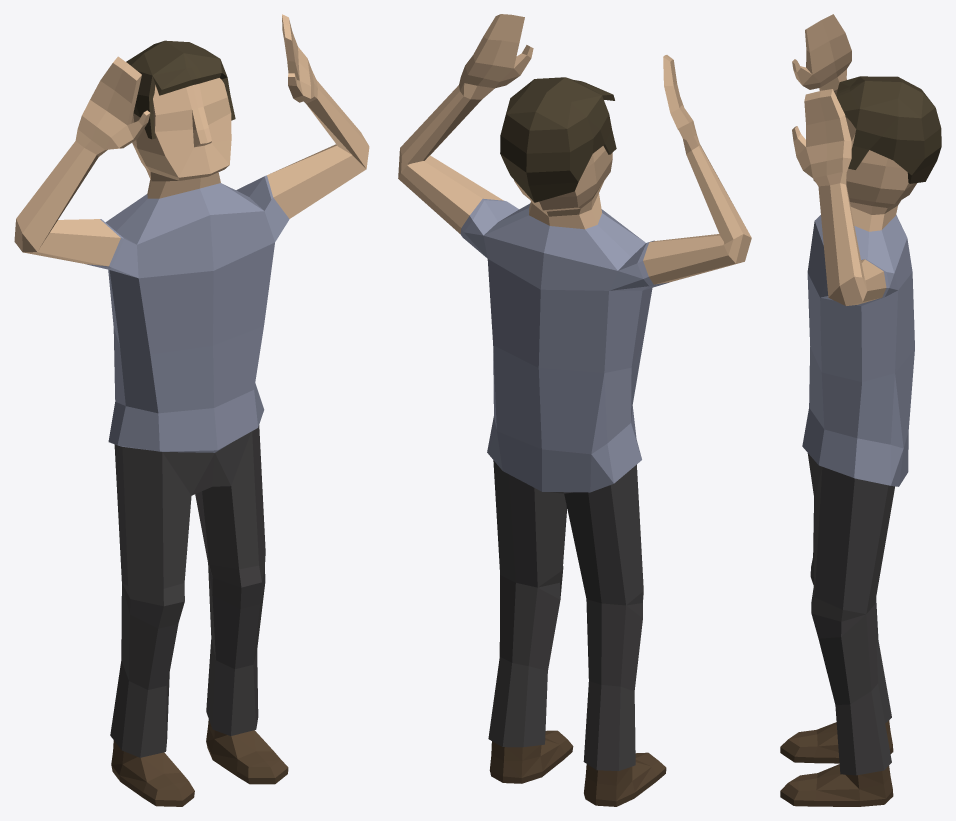
The model's file is Male_Crowd_HandsOnHead.glb.
3 renders of one model, left to right at view 1: azimuth 30°, elevation 25°; view 2: azimuth 150°, elevation 25°; view 3: azimuth 270°, elevation 25°, orthographic. The views are drawn at different scales.
Parts seen in each view (by area): view 1: Male_Crowd_HandsOnHead; view 2: Male_Crowd_HandsOnHead; view 3: Male_Crowd_HandsOnHead.
Part boxes in pixels (left/top/right/bottom): Male_Crowd_HandsOnHead: left=14, top=14, right=369, bottom=806; Male_Crowd_HandsOnHead: left=398, top=14, right=751, bottom=806; Male_Crowd_HandsOnHead: left=780, top=14, right=941, bottom=806.
Bounding box in the file's own units: 0.9139 × 1.87 × 0.3779.
